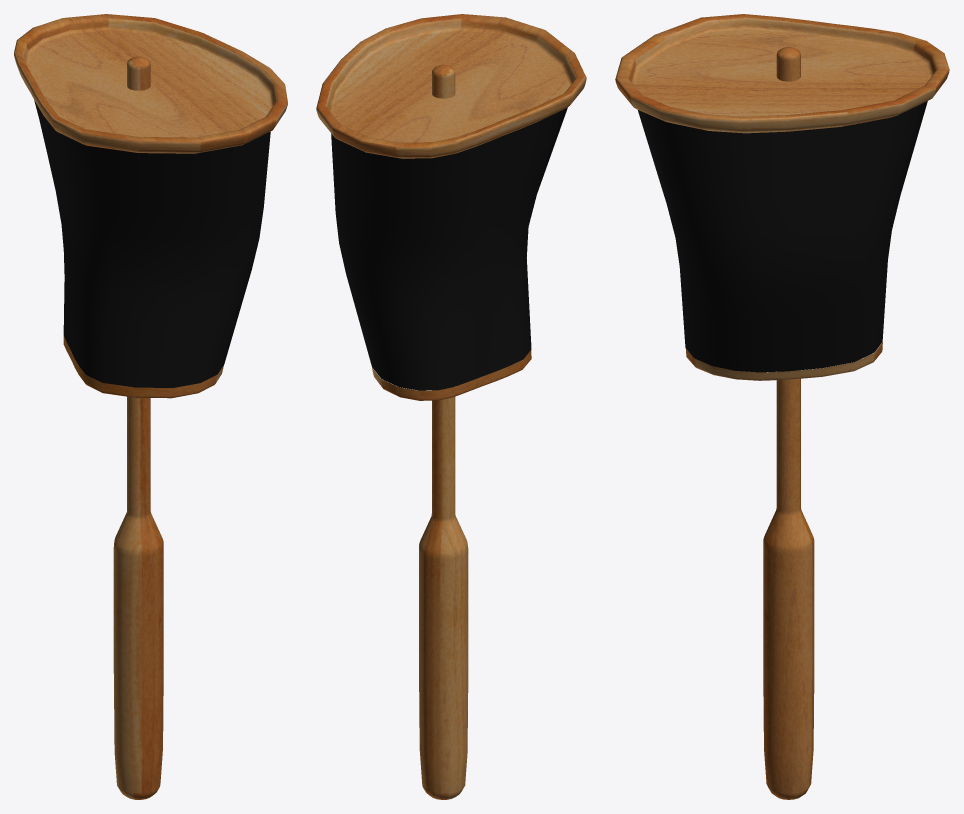
File: instrument-horn-rattle.glb
The picture shows the model from 3 angles, left to right: view 1: azimuth 30°, elevation 25°; view 2: azimuth 150°, elevation 25°; view 3: azimuth 270°, elevation 25°; orthographic projection. The views are drawn at different scales.
Visible parts, largest first — view 1: instrument_horn_rattle (×2); view 2: instrument_horn_rattle (×2); view 3: instrument_horn_rattle (×2).
Part boxes in pixels (x1=…): instrument_horn_rattle (×2): x1=14, y1=14, x2=287, y2=799; instrument_horn_rattle (×2): x1=316, y1=14, x2=586, y2=799; instrument_horn_rattle (×2): x1=615, y1=14, x2=949, y2=799.
Bounding box in the file's own units: 0.4336 × 1.42 × 0.5741.
2 materials, 2 textured.
